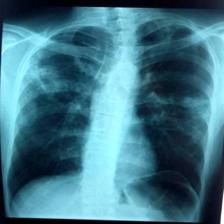tuberculosis: (7, 14, 208, 224)
